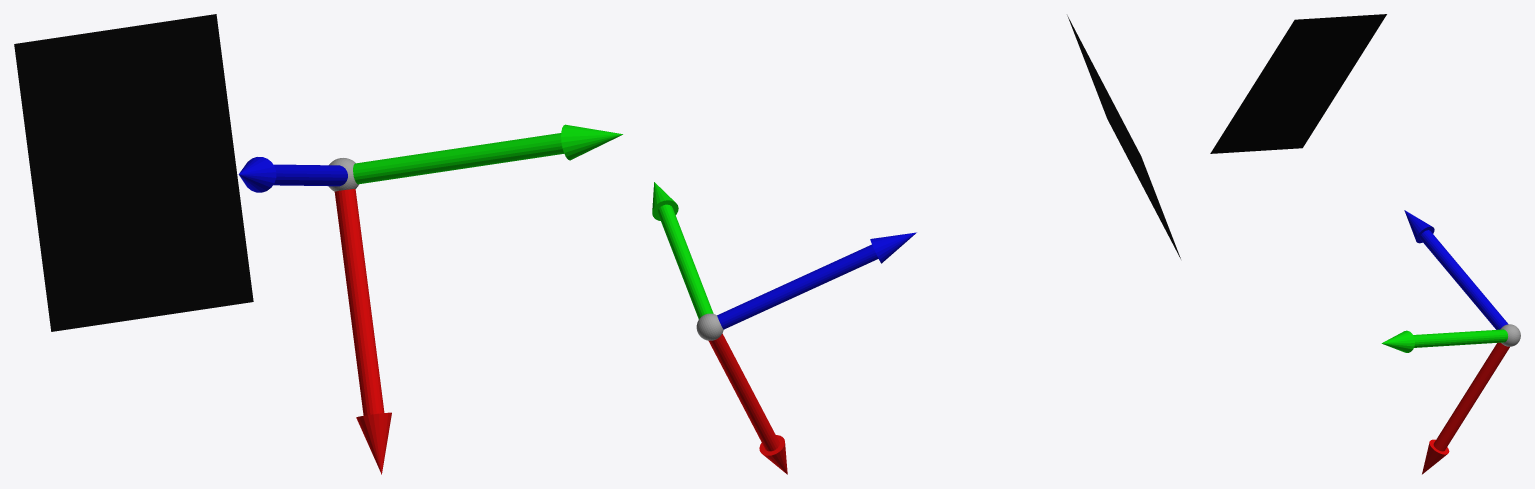
3 renders of one model, left to right at view 1: azimuth 30°, elevation 25°; view 2: azimuth 150°, elevation 25°; view 3: azimuth 270°, elevation 25°, orthographic. The views are drawn at different scales.
Size of the model in its own units: 0.3038 by 0.2745 by 0.2067.
